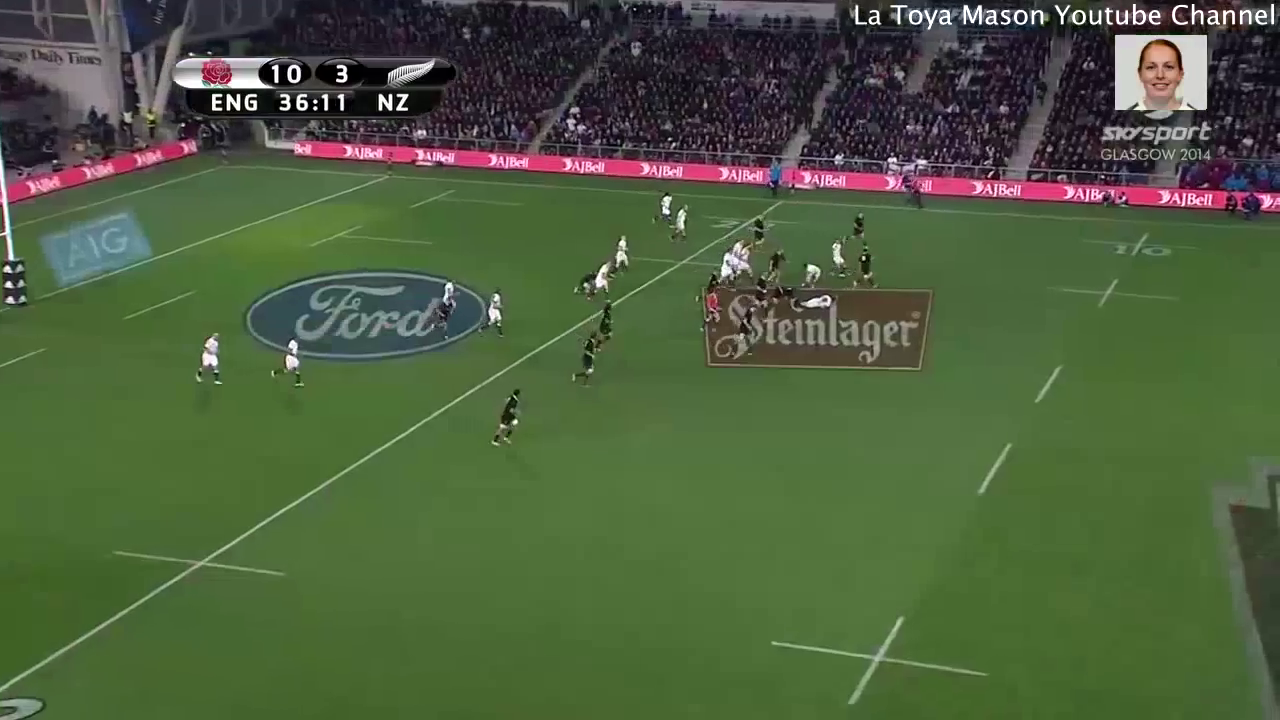10_metre: (761, 603, 997, 714), (1030, 275, 1196, 314), (1078, 228, 1203, 264)
player: (189, 320, 232, 392), (482, 383, 524, 456), (564, 328, 604, 391), (430, 274, 467, 341), (472, 281, 512, 340), (272, 331, 309, 394), (726, 303, 757, 361), (711, 246, 742, 295), (850, 246, 879, 296), (592, 299, 618, 354), (608, 230, 636, 279), (697, 285, 722, 338), (591, 253, 616, 303), (668, 199, 695, 245), (787, 290, 843, 312), (432, 292, 453, 350), (824, 235, 852, 278), (846, 208, 872, 250), (764, 243, 791, 283), (568, 266, 598, 301), (793, 259, 826, 288), (745, 212, 768, 253), (653, 188, 676, 228), (751, 268, 772, 311), (740, 238, 756, 286), (698, 264, 721, 297), (769, 283, 797, 308), (728, 238, 747, 260)
